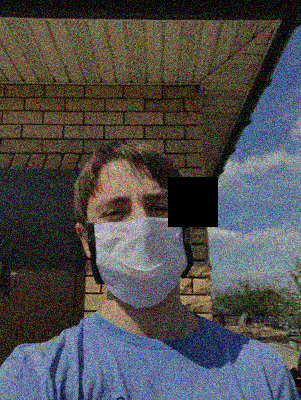with_mask: (86, 181, 191, 308)
